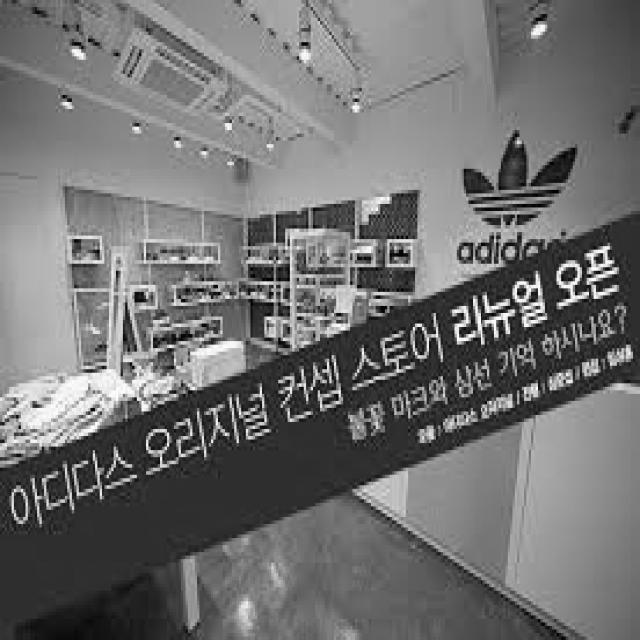Adidas: (450, 123, 589, 228)
